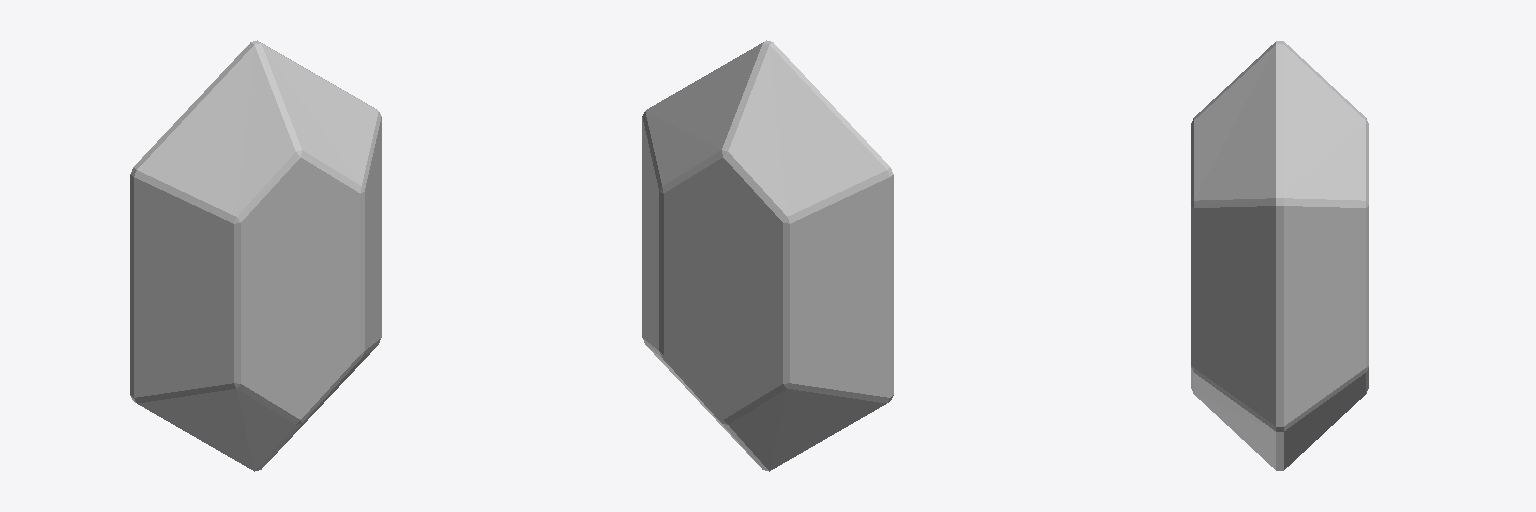
The model's file is gem.obj.
3 renders of one model, left to right at view 1: azimuth 30°, elevation 25°; view 2: azimuth 150°, elevation 25°; view 3: azimuth 270°, elevation 25°, orthographic.
Parts seen in each view (by area): view 1: submesh_0; view 2: submesh_0; view 3: submesh_0.
Part boxes in pixels (bbox=[...]): submesh_0: bbox=[130, 40, 381, 471]; submesh_0: bbox=[642, 40, 893, 471]; submesh_0: bbox=[1191, 41, 1368, 470].
Bounding box in the file's own units: 0.2946 × 0.4851 × 0.1842.